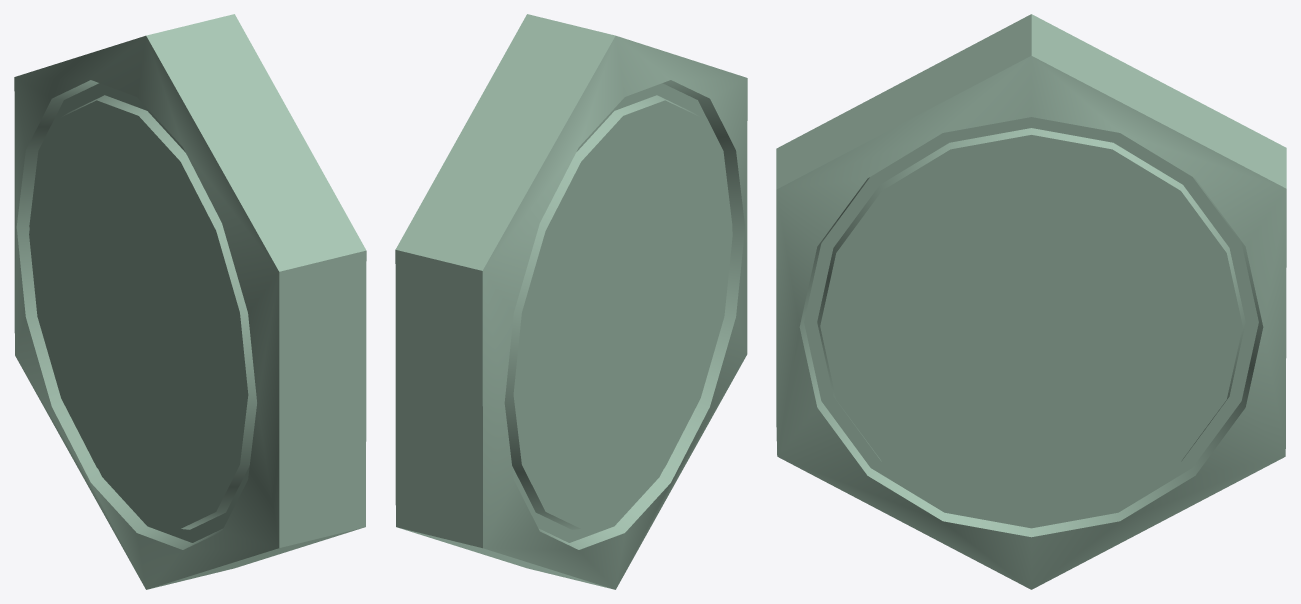
File: PipeLarge_Connector_06.fbx
3 views of the same model, side by side, from view 1: azimuth 30°, elevation 25°; view 2: azimuth 150°, elevation 25°; view 3: azimuth 270°, elevation 25° (orthographic). The views are drawn at different scales.
Parts seen in each view (by area): view 1: PipeLarge_Connector_06.001; view 2: PipeLarge_Connector_06.001; view 3: PipeLarge_Connector_06.001.
Part boxes in pixels (box(x1,y1,x2,y2)): PipeLarge_Connector_06.001: box(14, 14, 366, 589); PipeLarge_Connector_06.001: box(395, 14, 747, 589); PipeLarge_Connector_06.001: box(776, 14, 1286, 589).
Size of the model in its own units: 0.0597 by 0.2958 by 0.2562.
